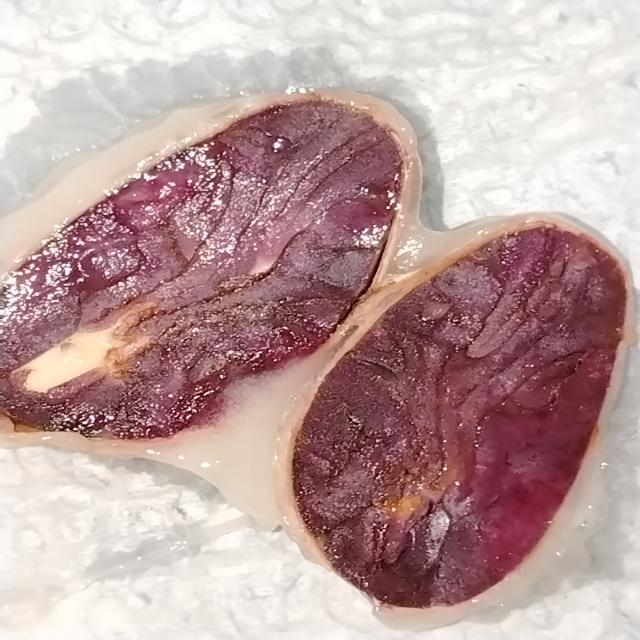Forastero: (9, 96, 401, 430), (294, 229, 617, 608)
